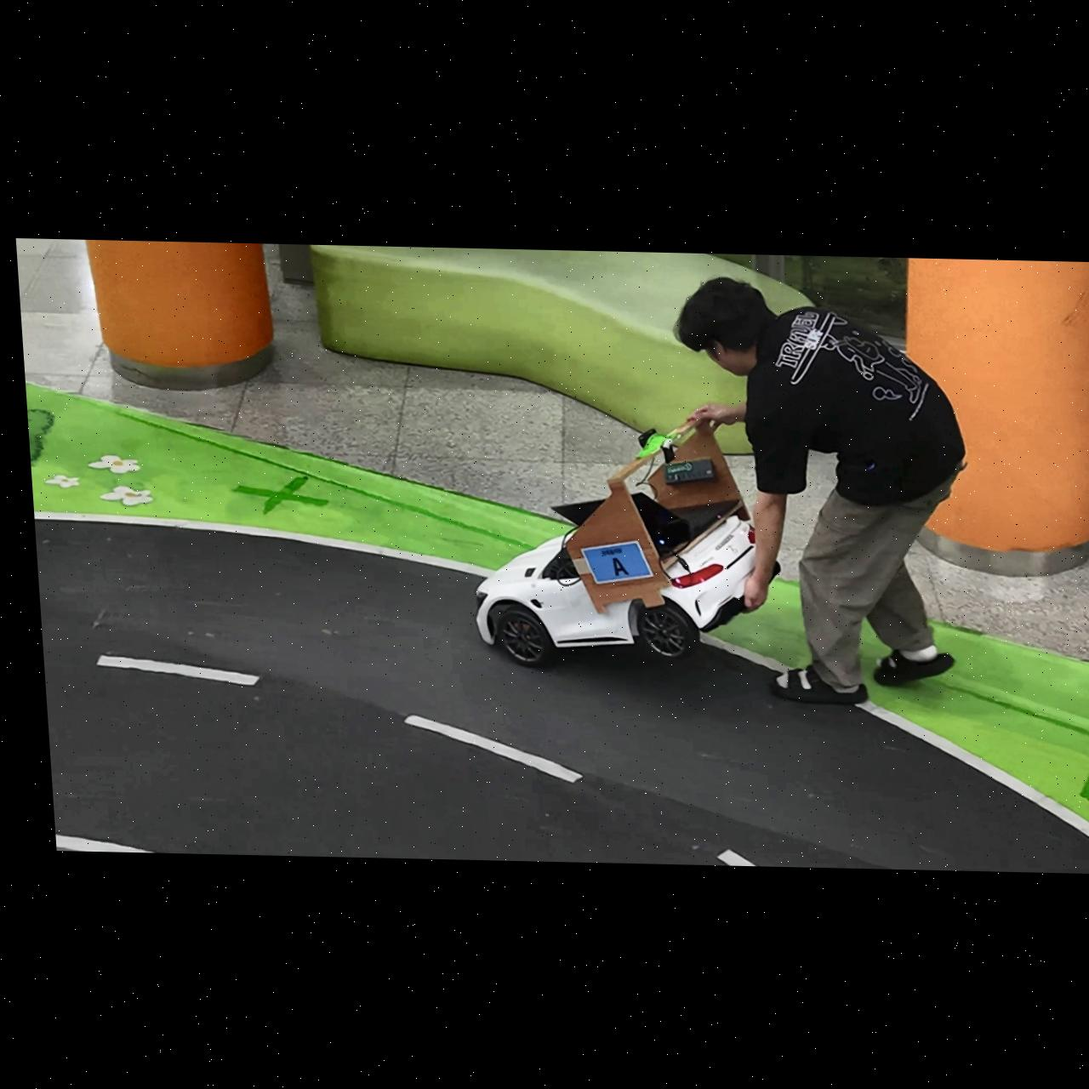broken_line: (402, 715, 584, 783), (96, 655, 260, 685), (718, 849, 756, 866)
